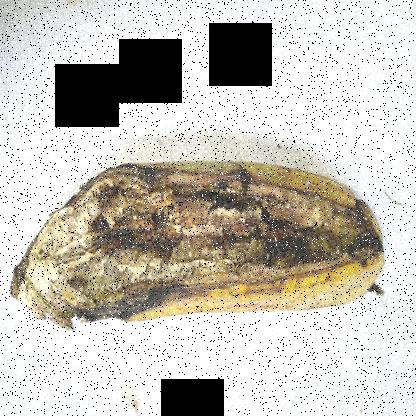rotten: (15, 140, 391, 340)
